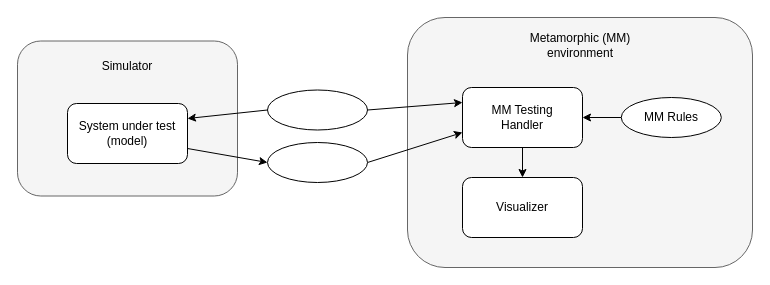
Some shapes in this 770 by 285 pixel diagram are drawn without their labels. Each missing label, with the box of its shape:
Inputs: (266, 89, 368, 130)
Outputs: (266, 142, 368, 182)
